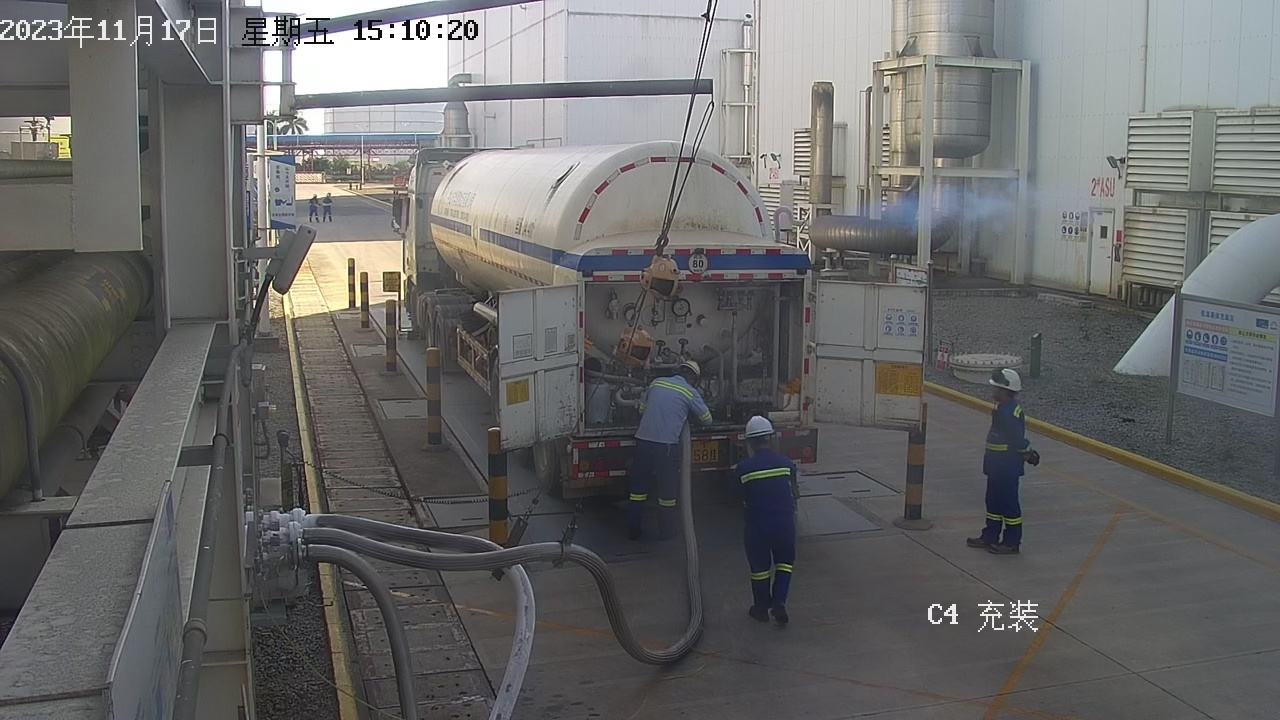Head_with_Helmet: (732, 410, 797, 457), (975, 360, 1038, 406), (660, 352, 712, 386), (323, 192, 334, 199), (310, 193, 319, 201)
Uniform: (714, 446, 825, 633), (962, 398, 1059, 563), (626, 370, 717, 542), (321, 197, 336, 225), (306, 198, 322, 223)
